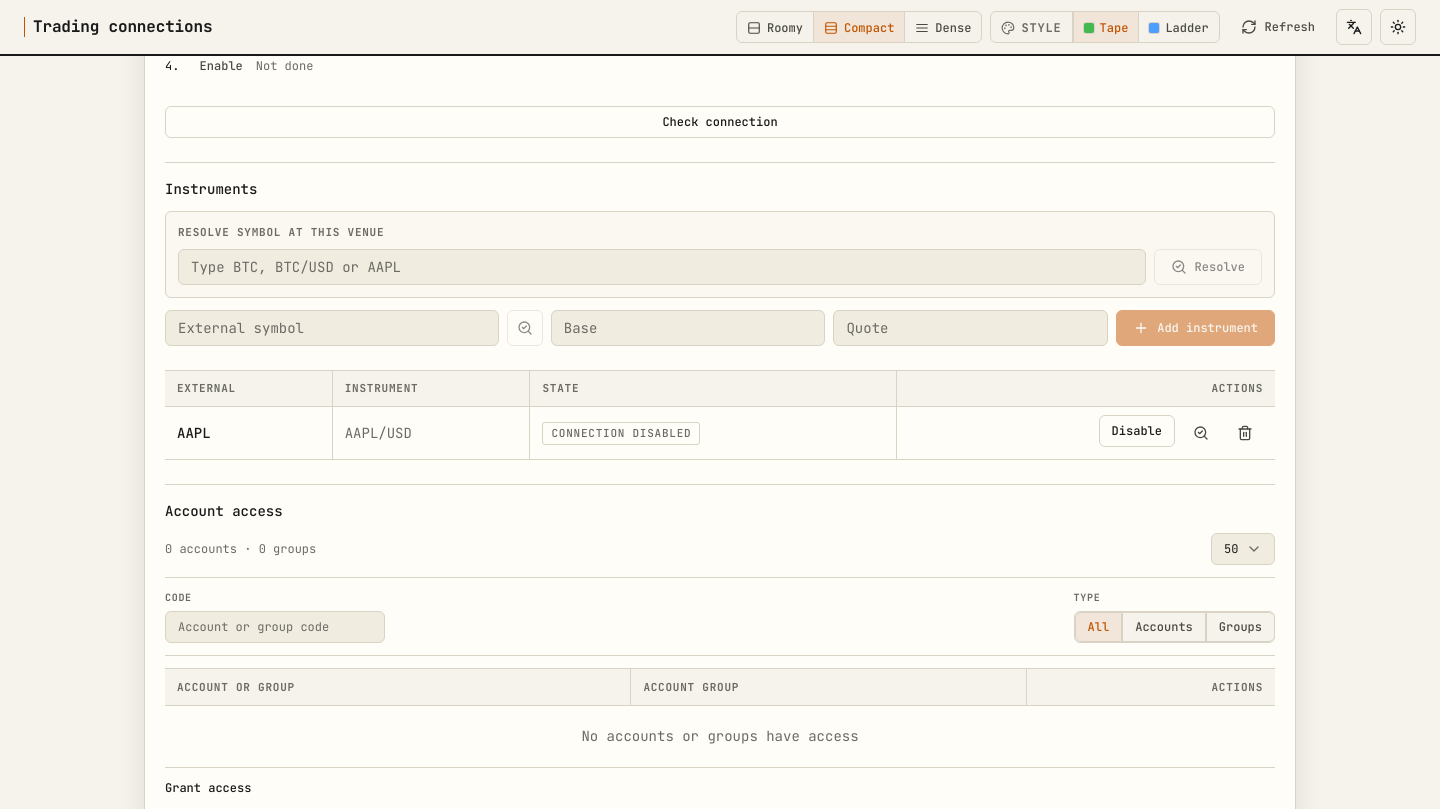
it: Trading connections › removes a row verify banner when its instrument disappears through poll
(page scrolled)
Click the button named "Verify symbol" in the row of "USD".
click(1201, 433)  # box [1183,415,1219,451]
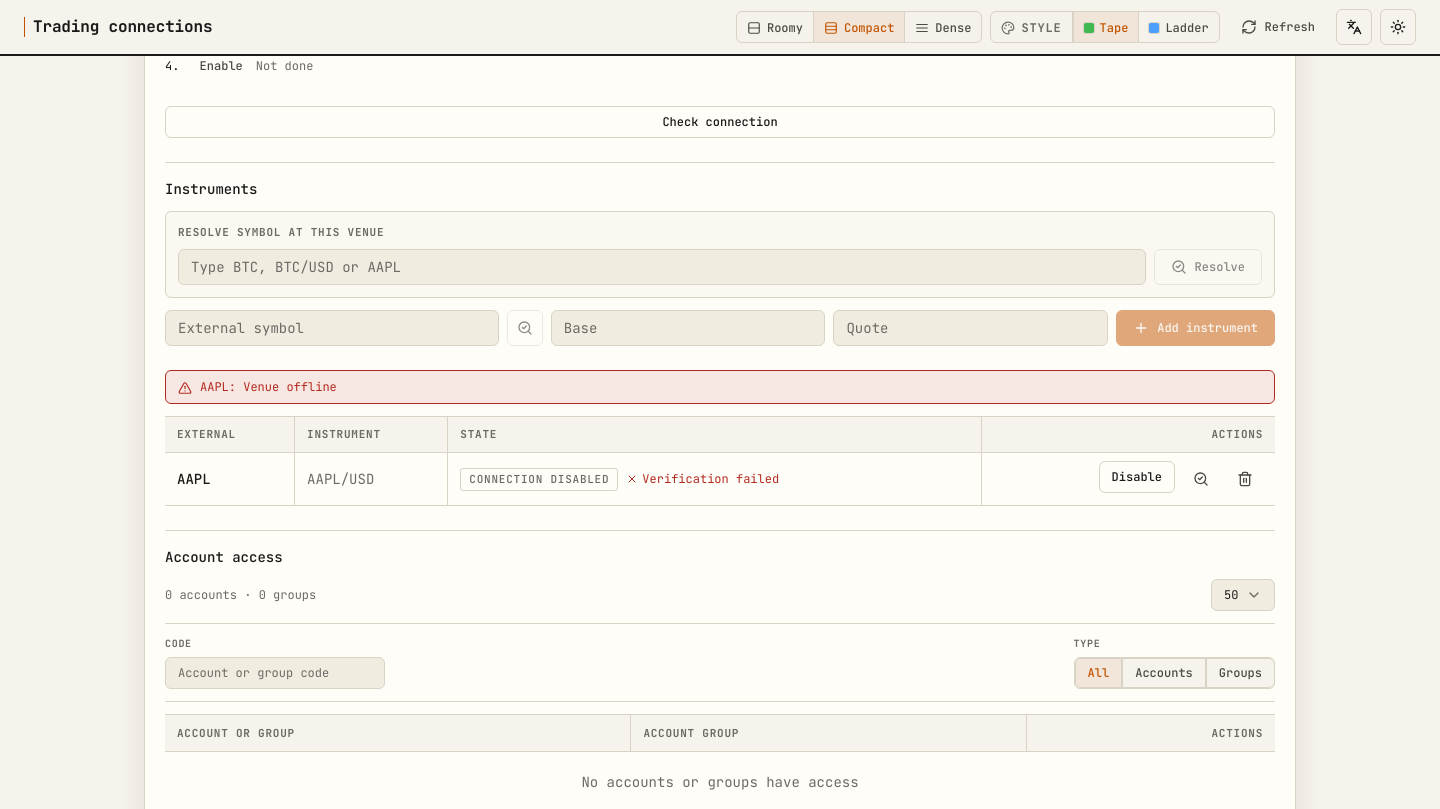
expect the text "AAPL: Venue offline" is shown: met, box [200,379,337,395]
Click the button "Refresh".
click(1278, 27)  # box [1228,11,1328,43]
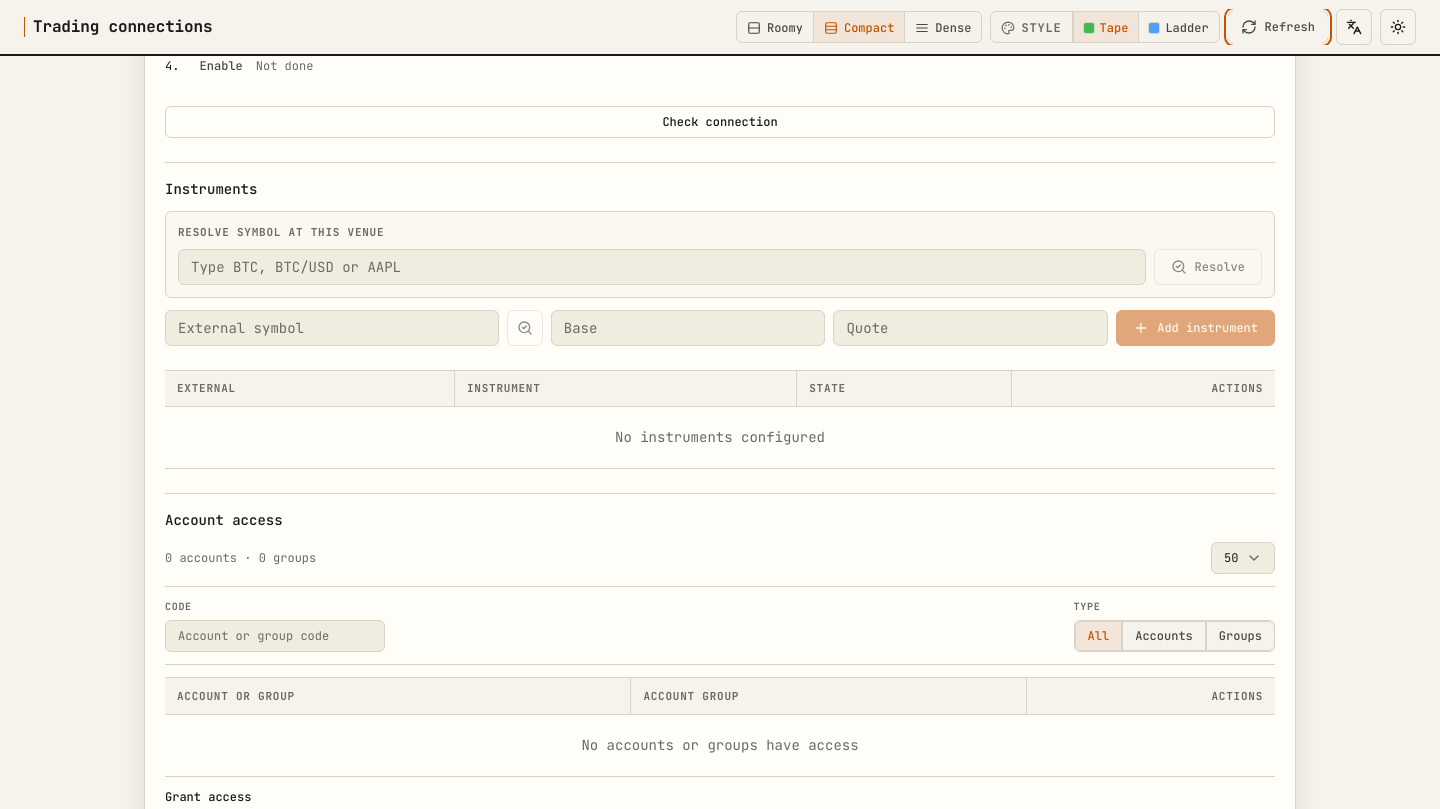
expect the text "AAPL: Venue offline" is gone: met
